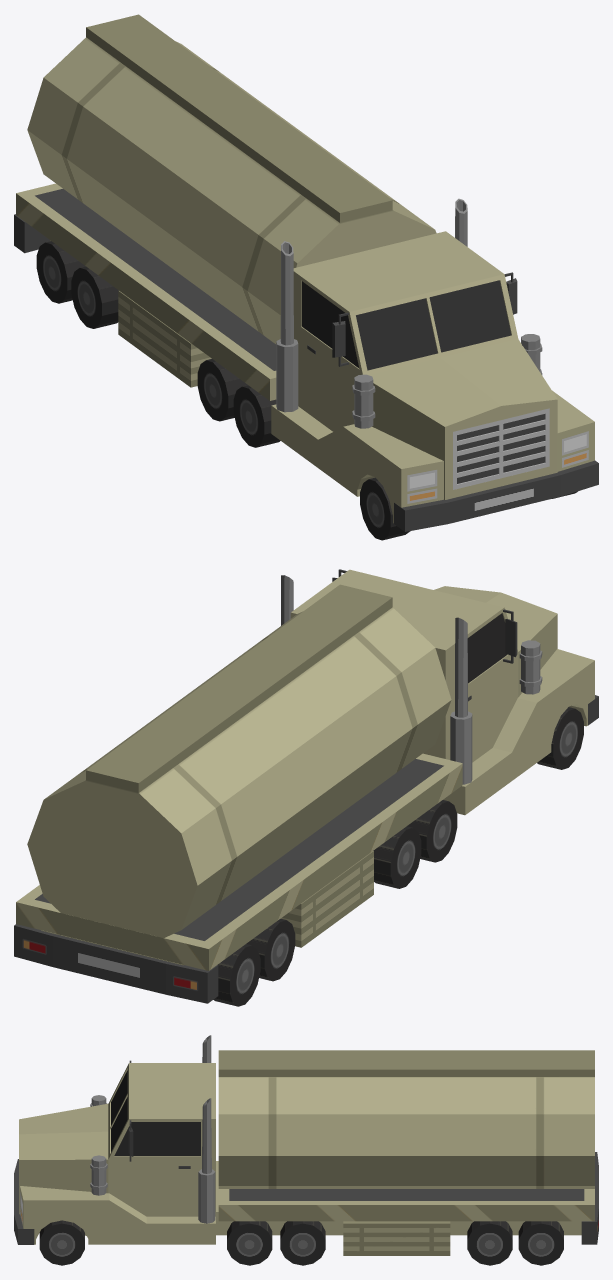
File: truck-tanker.glb
3 views of the same model, one above another, from view 1: azimuth 30°, elevation 25°; view 2: azimuth 150°, elevation 25°; view 3: azimuth 270°, elevation 25° (orthographic). The views are drawn at different scales.
Parts seen in each view (by area): view 1: Body, RR3, RR1, RR2, RR4, FR; view 2: Body, RR2, RR4, RR1, RR3, FR; view 3: Body, RL1, RL3, RL4, RL2, FL.
Boxes of the visible parts, left/top/right/bottom form: Body: left=14, top=14, right=598, bottom=531; RR3: left=71, top=266, right=118, bottom=328; RR1: left=233, top=385, right=280, bottom=447; RR2: left=197, top=359, right=247, bottom=421; RR4: left=36, top=241, right=85, bottom=303; FR: left=360, top=477, right=410, bottom=540; Body: left=14, top=569, right=598, bottom=1003; RR2: left=373, top=826, right=421, bottom=888; RR4: left=213, top=944, right=260, bottom=1006; RR1: left=407, top=800, right=457, bottom=862; RR3: left=246, top=918, right=295, bottom=981; FR: left=537, top=707, right=583, bottom=769; Body: left=14, top=1035, right=598, bottom=1255; RL1: left=227, top=1221, right=272, bottom=1265; RL3: left=467, top=1221, right=512, bottom=1265; RL4: left=518, top=1221, right=563, bottom=1265; RL2: left=280, top=1221, right=325, bottom=1265; FL: left=39, top=1220, right=84, bottom=1265.
Size of the model in its own units: 3.94 by 4.47 by 13.88.
1 material, 1 textured.
